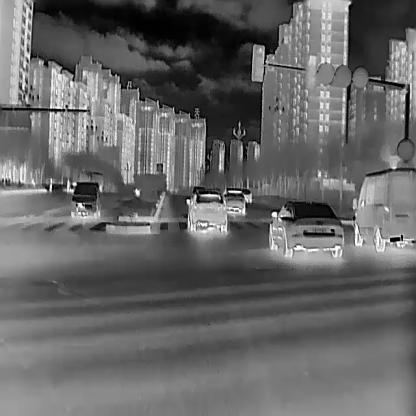car: (351, 167, 416, 253), (265, 198, 345, 258), (185, 188, 228, 233), (71, 181, 102, 217), (222, 187, 246, 214), (240, 187, 251, 203)
